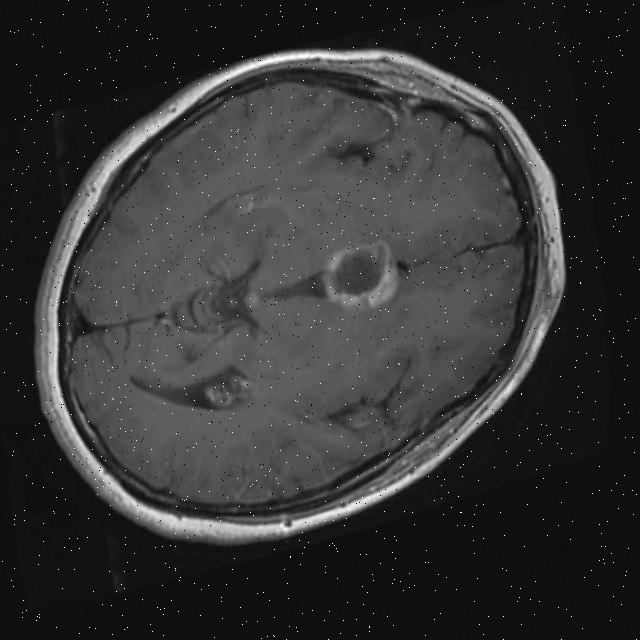Pituitary: (316, 235, 405, 321)
